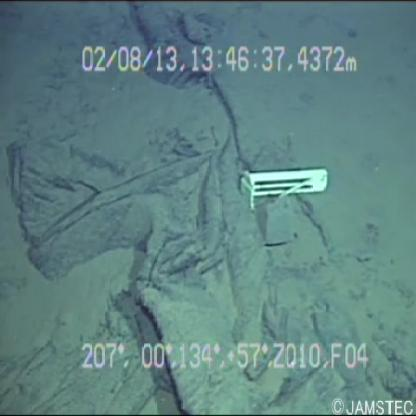Rác: (233, 130, 336, 212)
